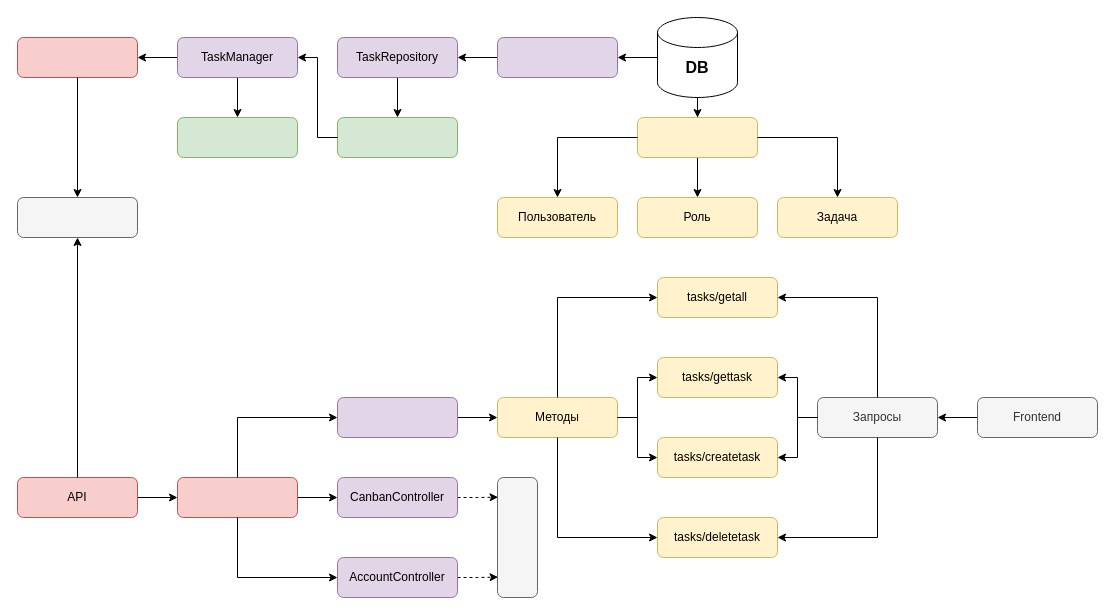
Image size: 1115x615. Some labels were removed from this diagram. Here are the shapes that lost their labels. From the top down, the centre of each, then its label:
the point at 77,57: Program.cs
the point at 557,57: TaskContext
the point at 237,137: ITaskManager
the point at 397,137: ITaskRepository
the point at 697,137: Модели данных
the point at 77,217: Backend
the point at 397,417: TaskController
the point at 237,497: Контроллеры
